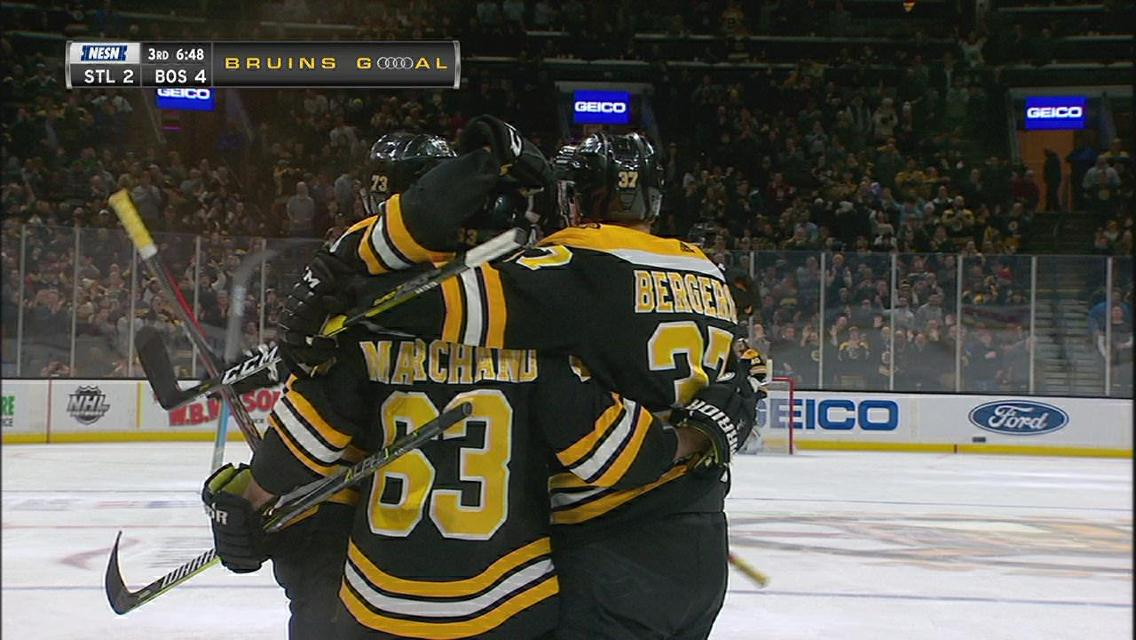geico: (751, 381, 902, 455), (570, 92, 632, 118), (1024, 102, 1083, 122)
